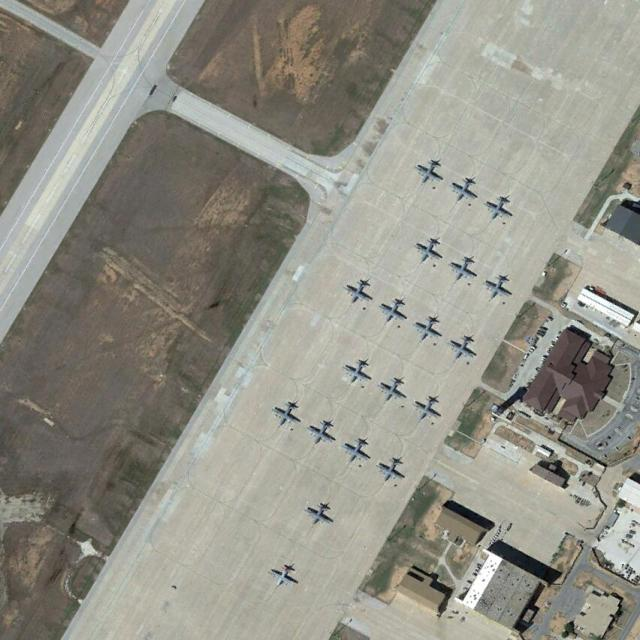fighter jet: (487, 197, 523, 224), (266, 560, 298, 590), (416, 156, 444, 190), (346, 355, 375, 387), (412, 393, 443, 422), (413, 233, 441, 265), (419, 310, 446, 343), (457, 327, 481, 363), (384, 297, 414, 325), (346, 278, 375, 306), (308, 502, 341, 526), (312, 422, 348, 443), (379, 454, 405, 483), (277, 398, 304, 424), (451, 258, 475, 284), (489, 273, 514, 297), (348, 435, 372, 460), (460, 176, 479, 206), (386, 379, 406, 396)
